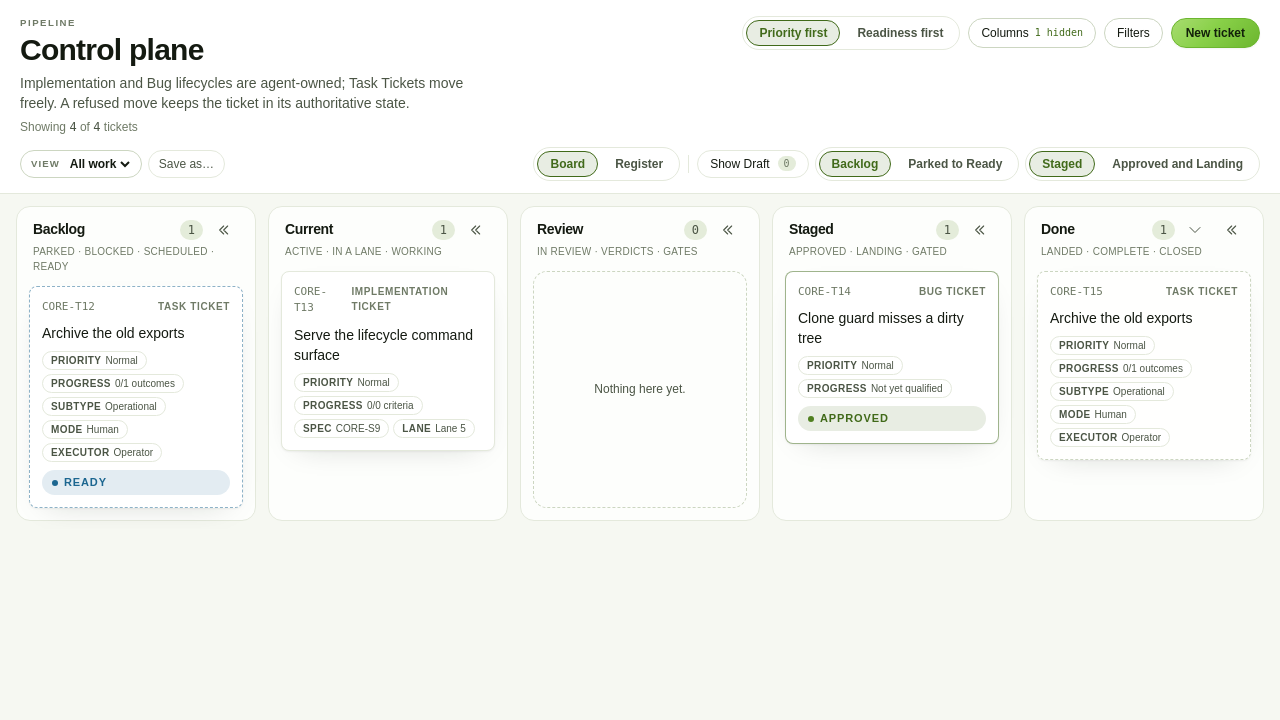
Test case: the board › wears the Spec and Lane the projection resolved, never a row id
Expected: the list item with test id "card-chip-lane-8" shows "Lane 5", top-left (435, 423), bottom-right (466, 434)
Expected: the list item with test id "card-chip-spec-8" shows "CORE-S9", top-left (336, 423), bottom-right (380, 434)
Click the button with test id "open-ticket-8".
click(388, 345)  # box top-left (294, 325), bottom-right (482, 365)
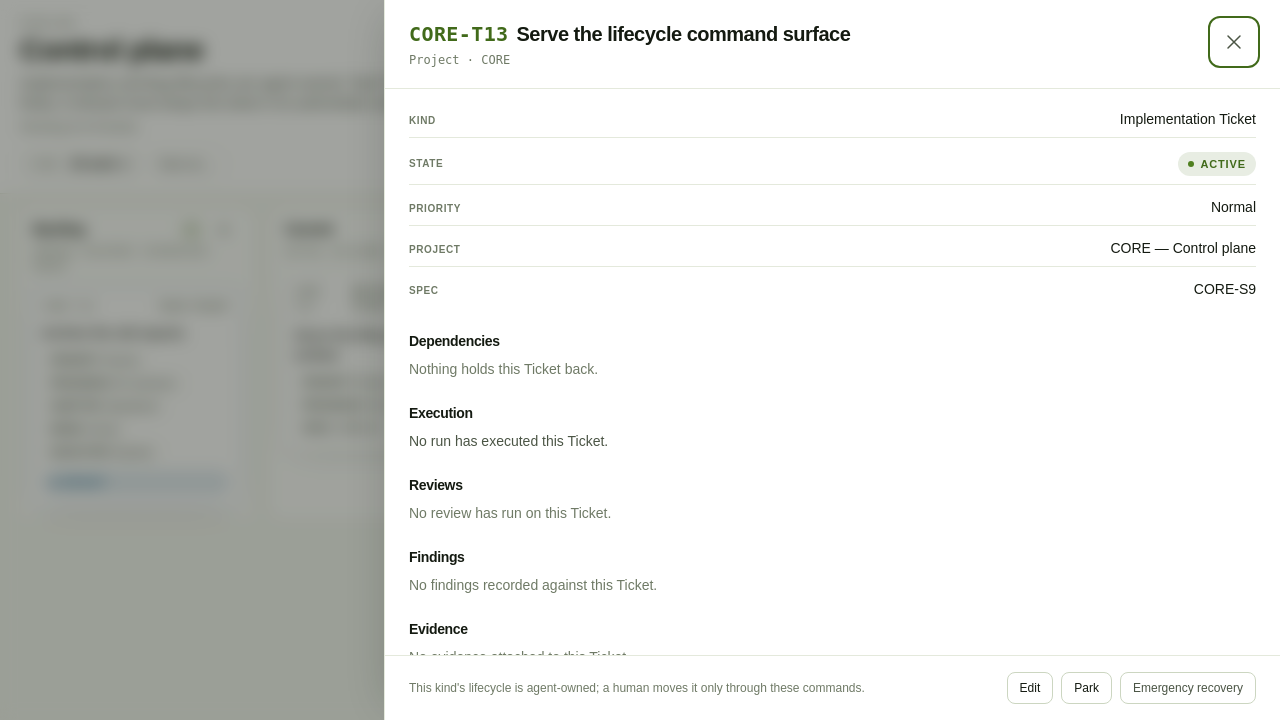
Expected: the text with test id "drawer-spec" reads "CORE-S9", top-left (1194, 281), bottom-right (1256, 297)
